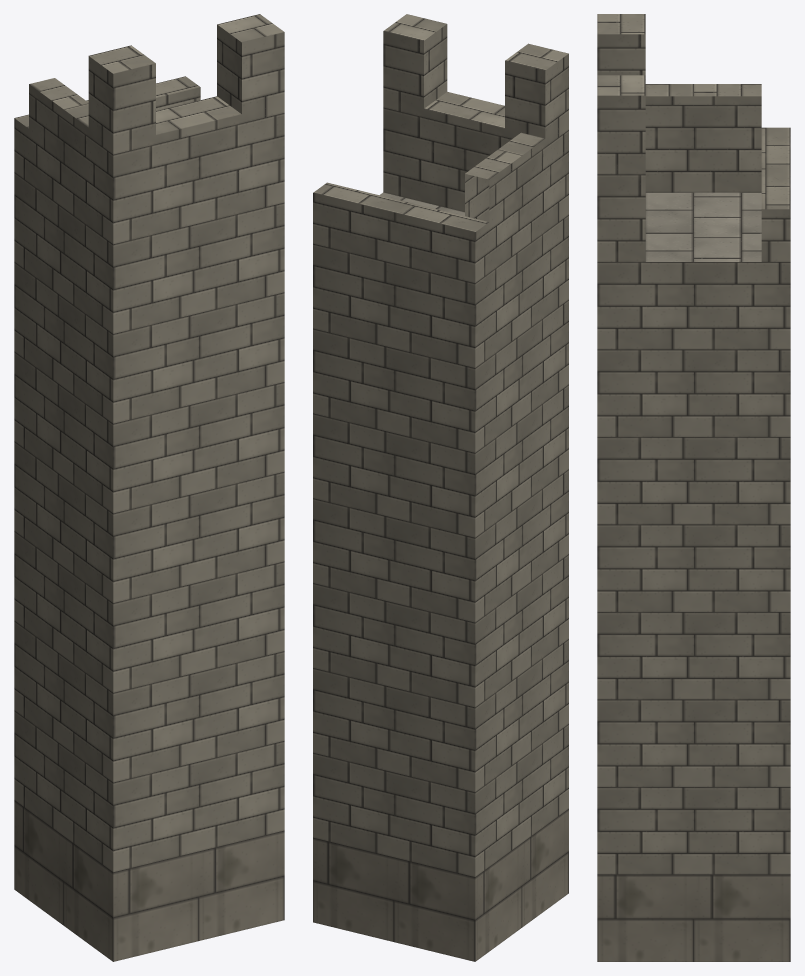
The model's file is curtain_cs_end.obj.
3 renders of one model, left to right at view 1: azimuth 30°, elevation 25°; view 2: azimuth 150°, elevation 25°; view 3: azimuth 270°, elevation 25°, orthographic. The views are drawn at different scales.
Visible parts, largest first — view 1: curtain_cs_end, curtain_cs_end_1, curtain_cs_end_3, curtain_cs_end_2; view 2: curtain_cs_end, curtain_cs_end_1, curtain_cs_end_2, curtain_cs_end_3; view 3: curtain_cs_end, curtain_cs_end_3, curtain_cs_end_1, curtain_cs_end_2.
Boxes of the visible parts, x1,y1,x2,y2 form: curtain_cs_end: [14, 172, 284, 961]; curtain_cs_end_1: [88, 14, 284, 244]; curtain_cs_end_3: [29, 78, 88, 225]; curtain_cs_end_2: [14, 76, 200, 182]; curtain_cs_end: [313, 192, 568, 961]; curtain_cs_end_1: [383, 14, 568, 231]; curtain_cs_end_2: [313, 182, 489, 282]; curtain_cs_end_3: [465, 132, 545, 272]; curtain_cs_end: [597, 192, 790, 961]; curtain_cs_end_3: [645, 84, 761, 192]; curtain_cs_end_1: [597, 14, 645, 261]; curtain_cs_end_2: [761, 127, 790, 261].
Bounding box in the file's own units: 2 × 9.9 × 2.
Materials: 1 (1 with a texture image).
